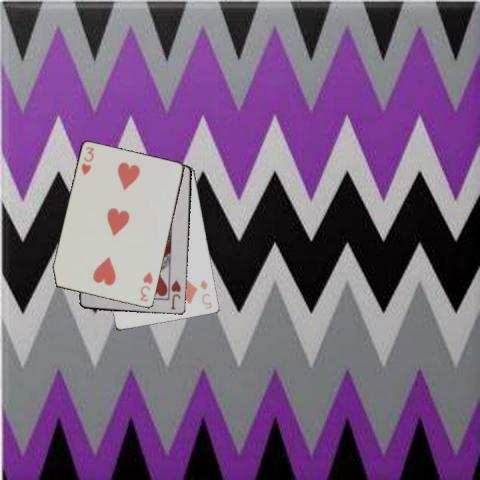3h: (137, 270, 155, 304), (78, 144, 95, 177)
5d: (198, 277, 214, 311)
Jh: (168, 277, 183, 311)
